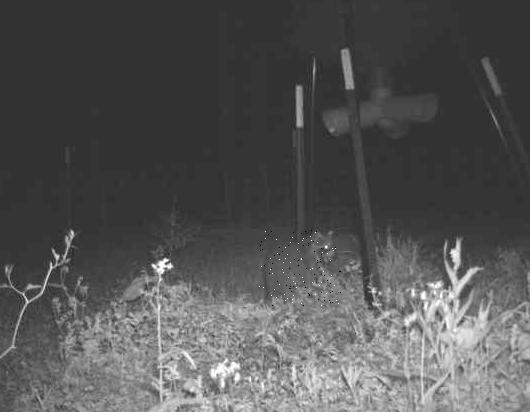Raccoon: (260, 231, 342, 307)
